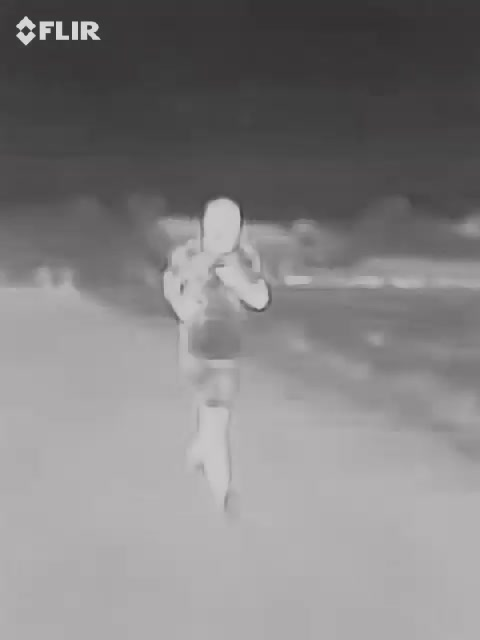head: (196, 190, 250, 265)
